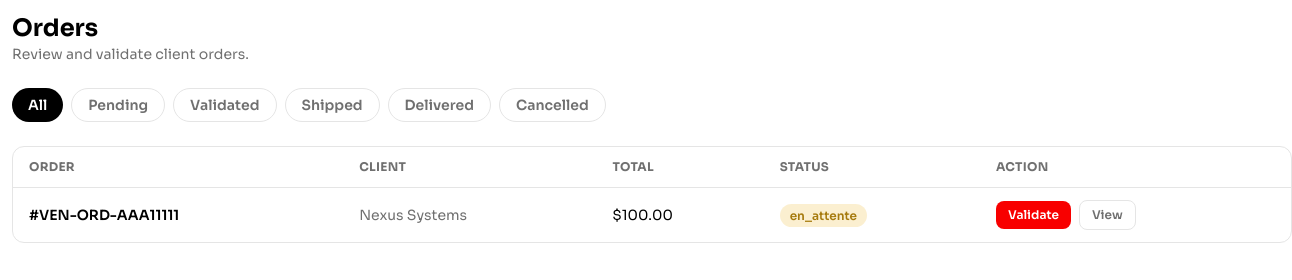
Commercial Orders page › shows an inline error when validation fails with a 422
Expected: the text "#VEN-ORD-AAA11111" is shown, [13, 188, 343, 242]
Click the button "Validate": (1033, 215) [996, 201, 1071, 229]
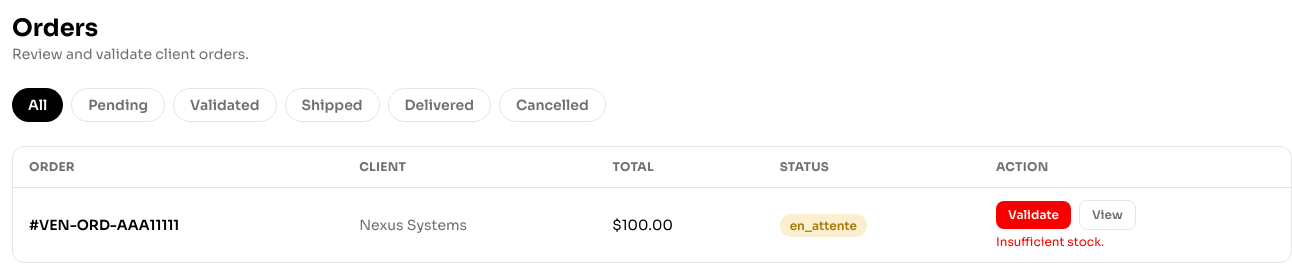
Now the text "Insufficient stock." is shown, box [996, 234, 1104, 249]
